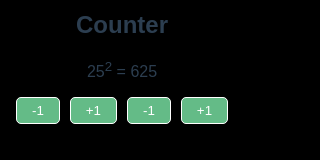
it: Counter.vue › should increment power in 1
This screenshot has width=320, height=160.
What coordinates should you click on to do the following:
click the 2nd button "+1"
I would click on:
 (204, 111)
Its box is [181,97,228,124].
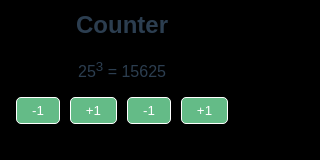
Check: the text "3" is shown, box [96,59,103,74]
